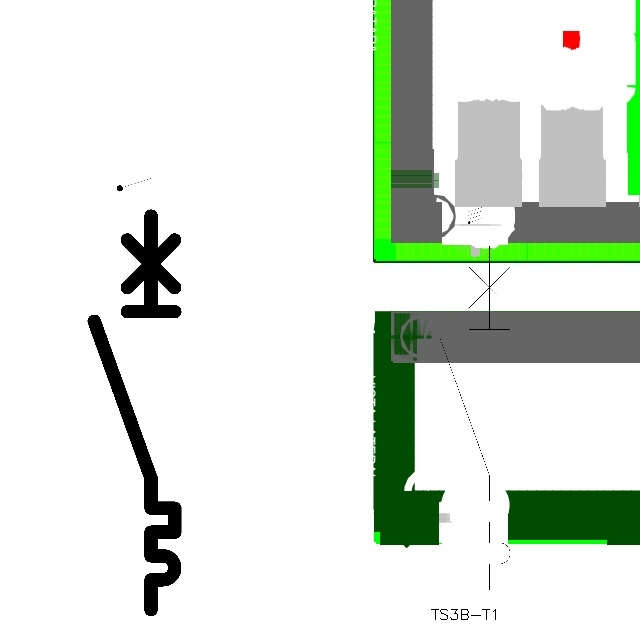interruptor_termomagnetico: (84, 205, 185, 619), (431, 236, 519, 598)
